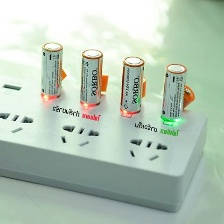battery: (118, 54, 147, 117), (76, 46, 105, 109), (159, 61, 188, 124), (38, 39, 65, 100)
